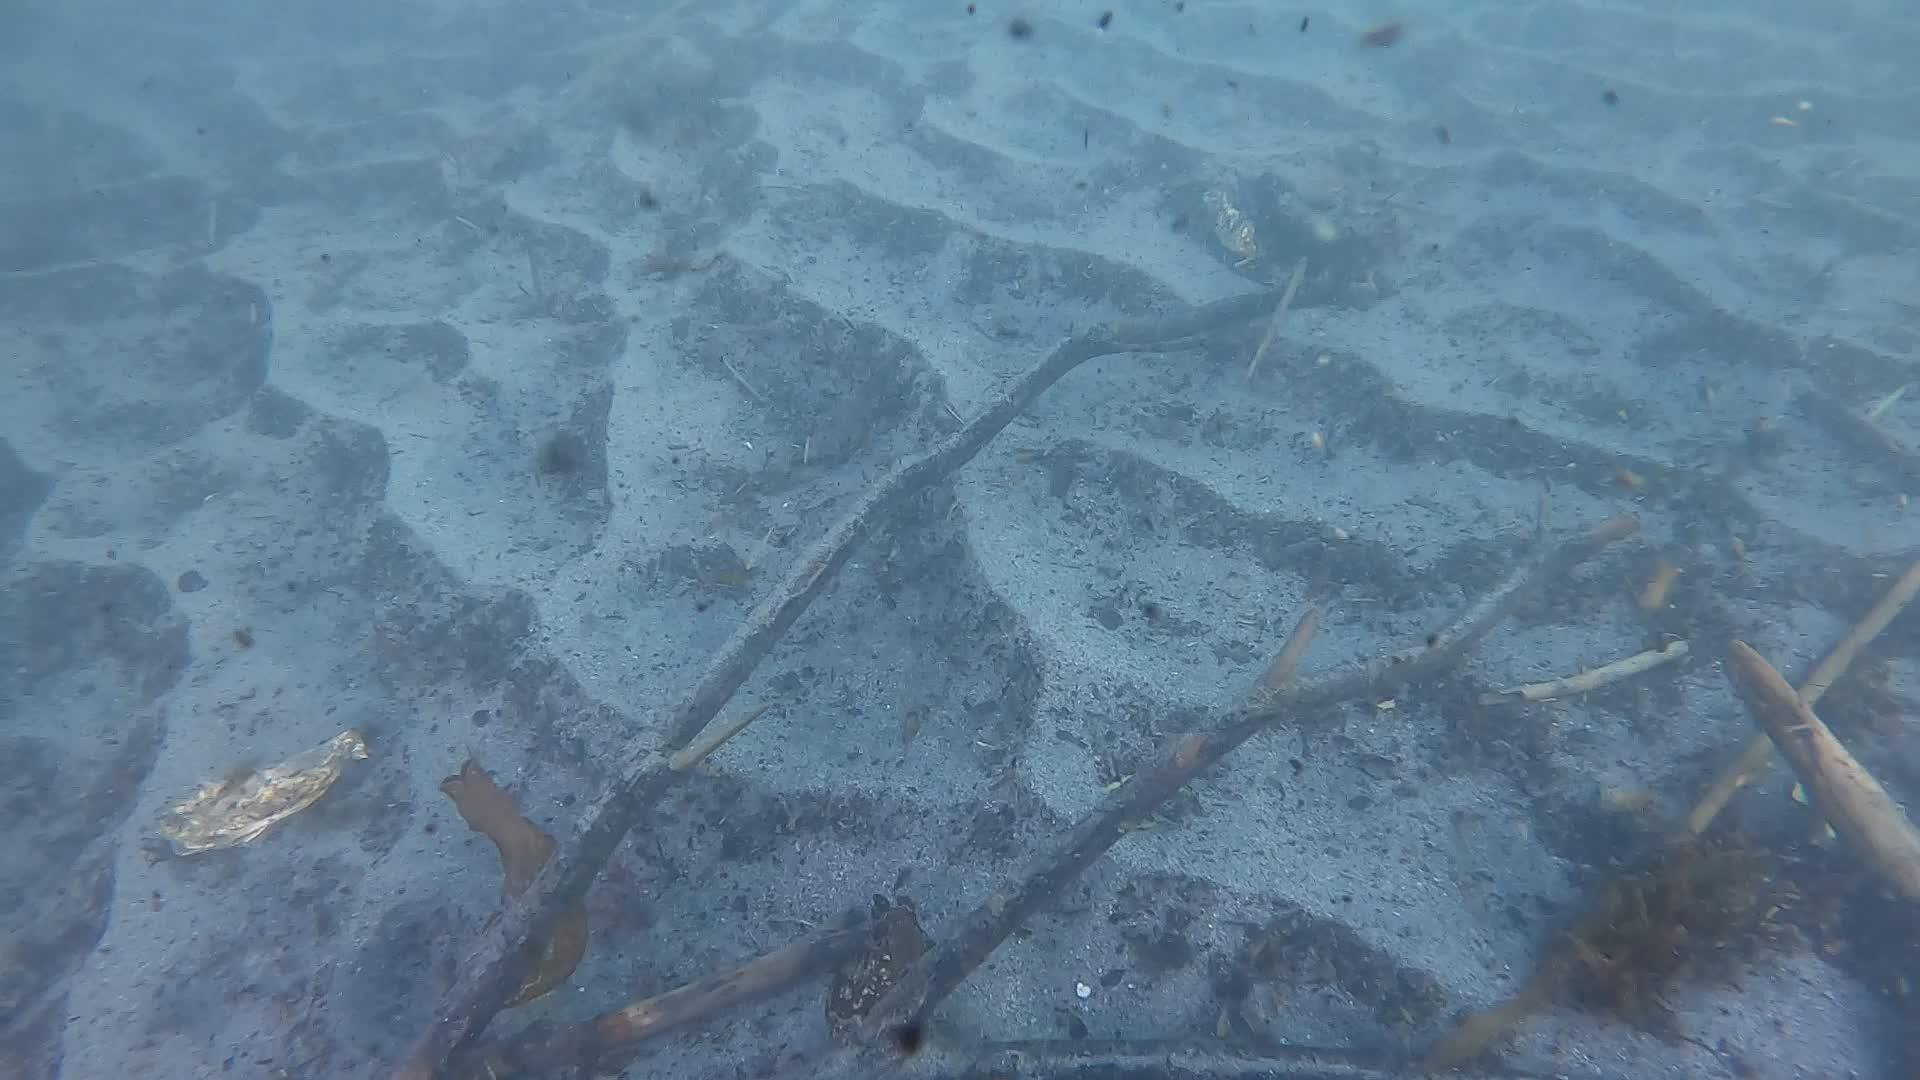wood: (397, 236, 1687, 1080), (1668, 558, 1920, 849), (1718, 640, 1920, 893)
